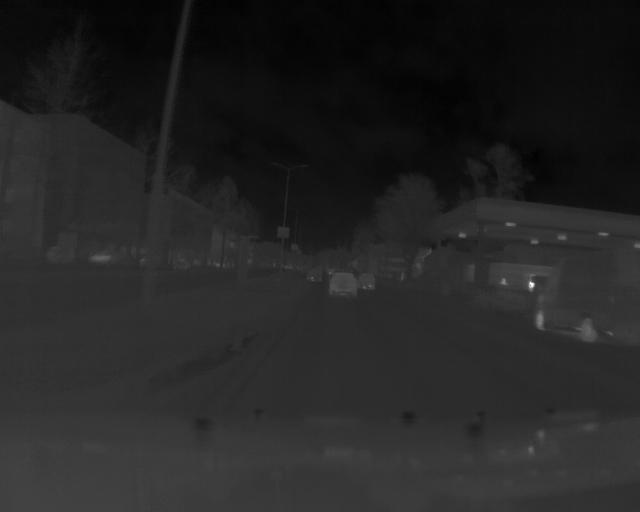car: (532, 251, 640, 344), (326, 270, 362, 300)
